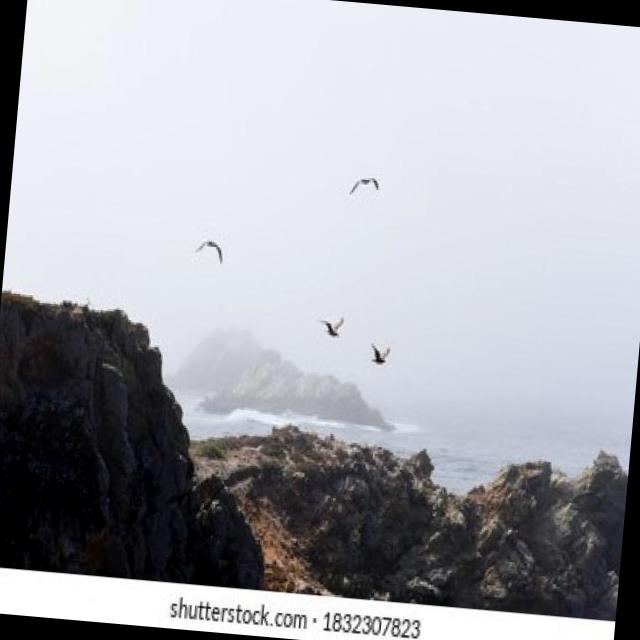bird: (343, 170, 387, 204), (192, 232, 230, 268), (364, 335, 394, 369), (318, 315, 348, 343)
